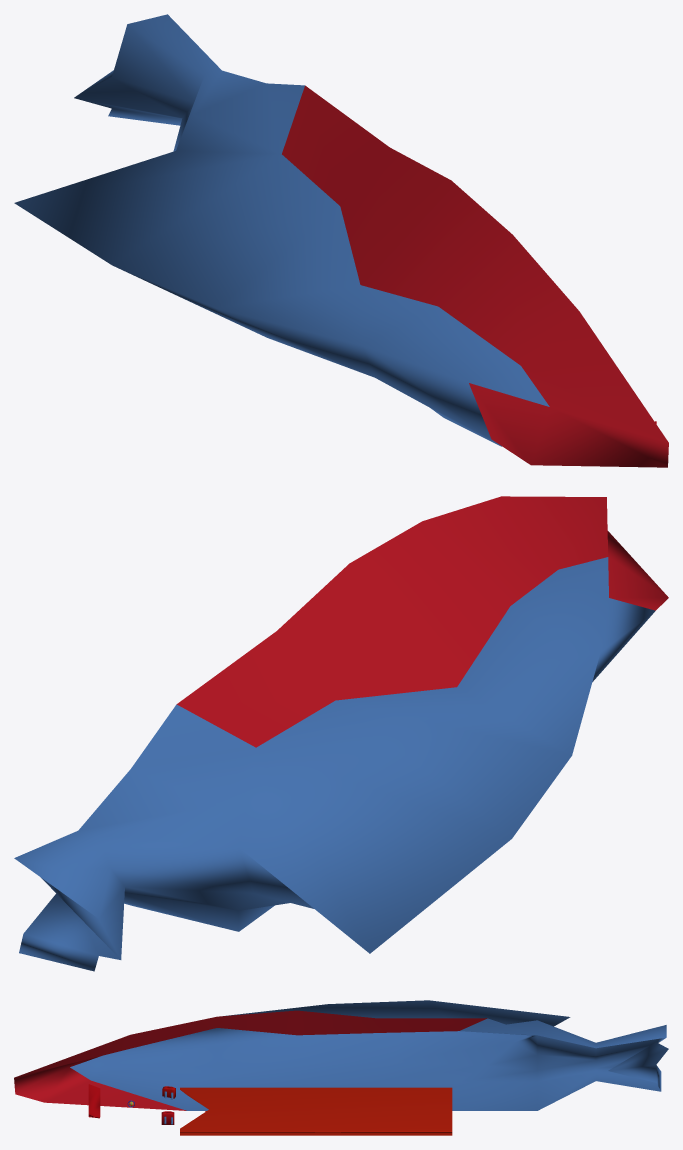
Rendered from shippytesty.gltf.
3 renders of one model, top to bottom at view 1: azimuth 30°, elevation 25°; view 2: azimuth 150°, elevation 25°; view 3: azimuth 270°, elevation 25°, orthographic. The views are drawn at different scales.
Parts seen in each view (by area): view 1: ship_body, Ship_Canopy; view 2: ship_body, Ship_Canopy; view 3: ship_body, Cube.001, Ship_Canopy, Cube.
Part boxes in pixels (x1=…): ship_body: x1=14, y1=14, x2=549, y2=446; Ship_Canopy: x1=282, y1=85, x2=668, y2=467; ship_body: x1=14, y1=557, x2=655, y2=971; Ship_Canopy: x1=176, y1=496, x2=668, y2=747; ship_body: x1=70, y1=1000, x2=668, y2=1110; Cube.001: x1=180, y1=1087, x2=452, y2=1135; Ship_Canopy: x1=14, y1=1010, x2=487, y2=1110; Cube: x1=88, y1=1084, x2=100, y2=1118.
Size of the model in its own units: 5.63 by 2.86 by 16.2.
